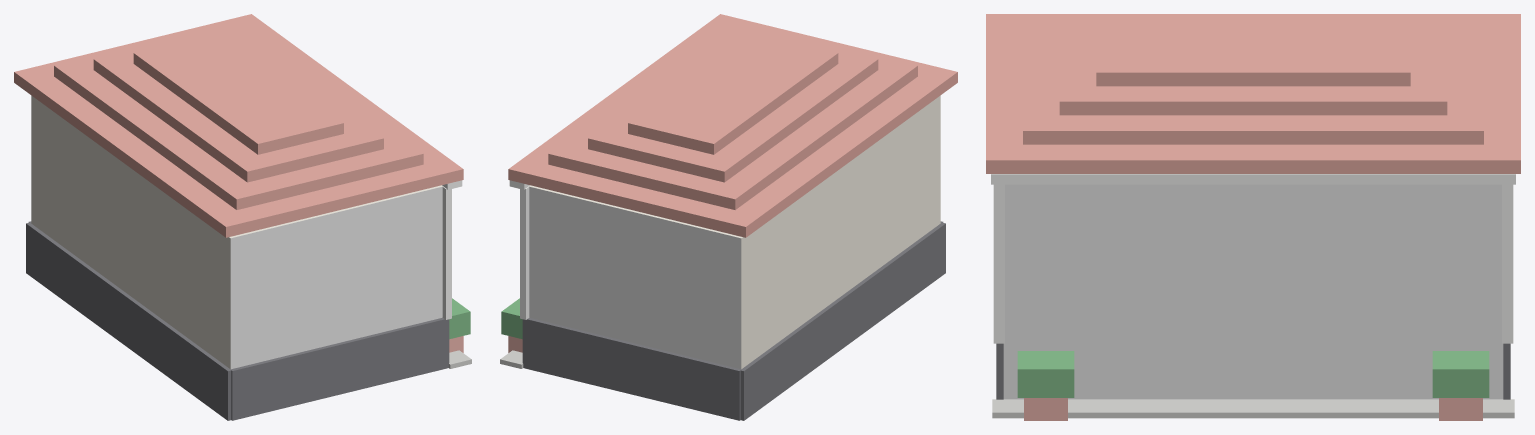
Rendered from FShop_Low.fbx.
3 views of the same model, side by side, from view 1: azimuth 30°, elevation 25°; view 2: azimuth 150°, elevation 25°; view 3: azimuth 270°, elevation 25° (orthographic). The views are drawn at different scales.
Parts seen in each view (by area): view 1: FShop_Low; view 2: FShop_Low; view 3: FShop_Low.
Part boxes in pixels (<box>): FShop_Low: <box>14,14,471,420</box>; FShop_Low: <box>500,14,957,420</box>; FShop_Low: <box>986,14,1520,420</box>.
Bounding box in the file's own units: 5.95 × 5.13 × 8.5.
